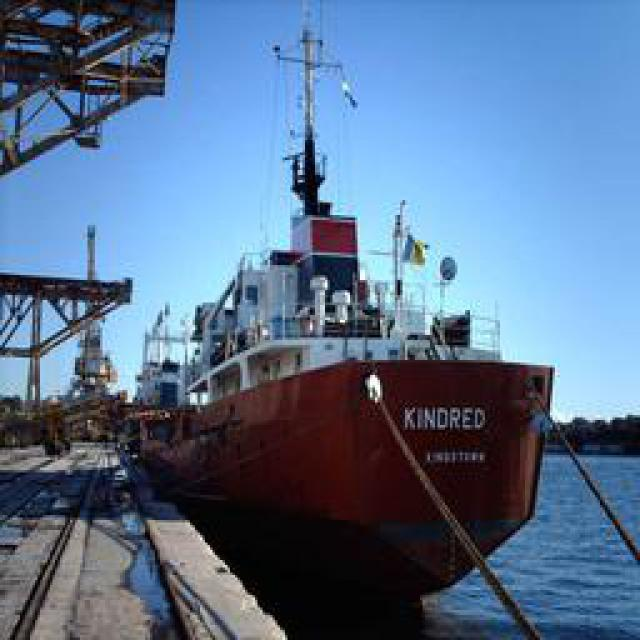Ship: (156, 35, 556, 595)
